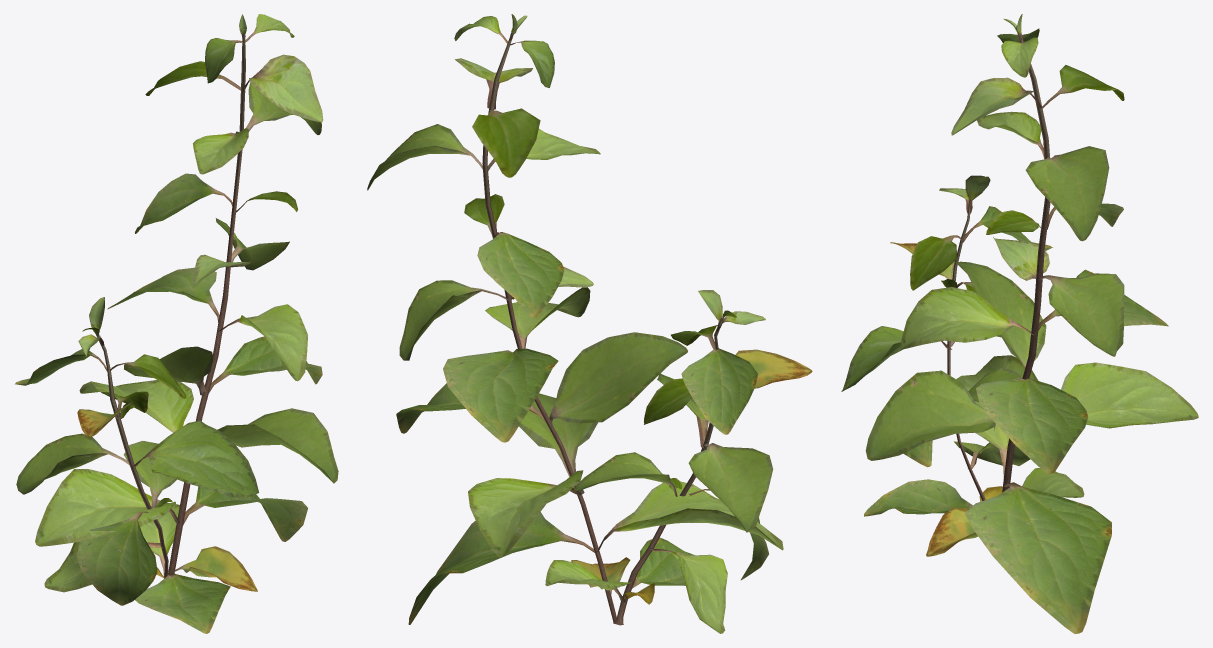
The model's file is office-garden.glb.
3 renders of one model, left to right at view 1: azimuth 30°, elevation 25°; view 2: azimuth 150°, elevation 25°; view 3: azimuth 270°, elevation 25°, orthographic. The views are drawn at different scales.
Visible parts, largest first — view 1: shrub_01_a_LOD1.001; view 2: shrub_01_a_LOD1.001; view 3: shrub_01_a_LOD1.001.
Part boxes in pixels (x1,y1,x2,y2): shrub_01_a_LOD1.001: (15, 14, 338, 633); shrub_01_a_LOD1.001: (367, 14, 812, 633); shrub_01_a_LOD1.001: (841, 14, 1198, 633).
Bounding box in the file's own units: 0.2308 × 0.3719 × 0.2057.
1 material, 1 textured.
